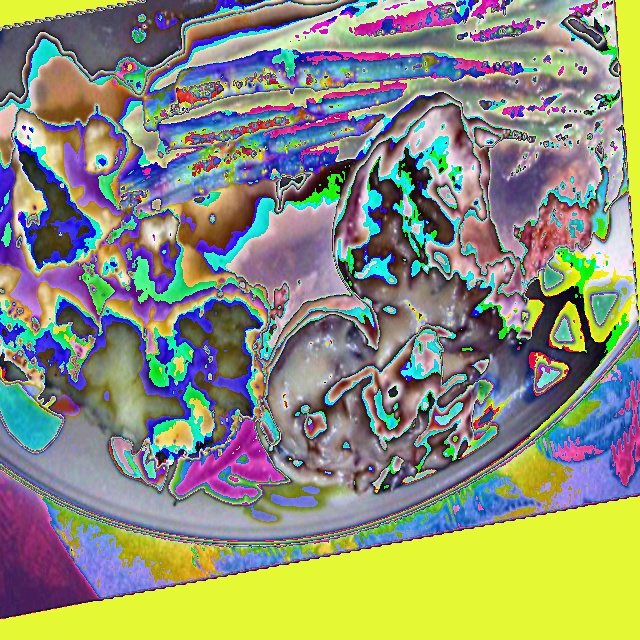background: (0, 0, 628, 496)
